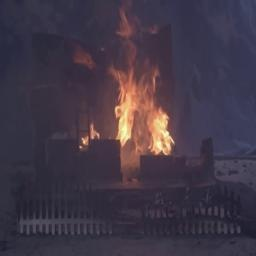fire: (89, 56, 185, 159)
